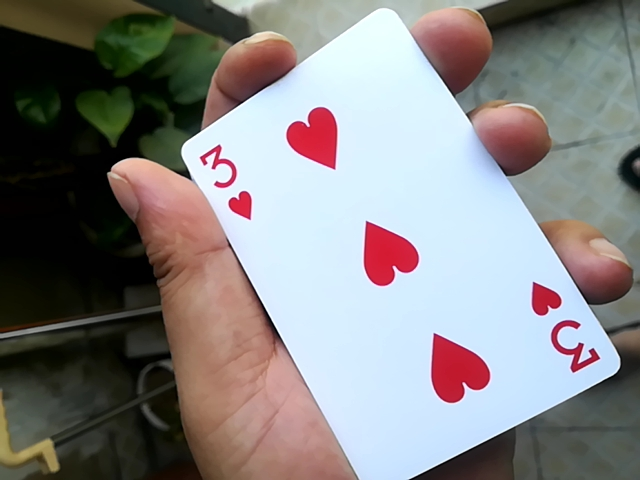hx 3: (170, 14, 617, 480)
